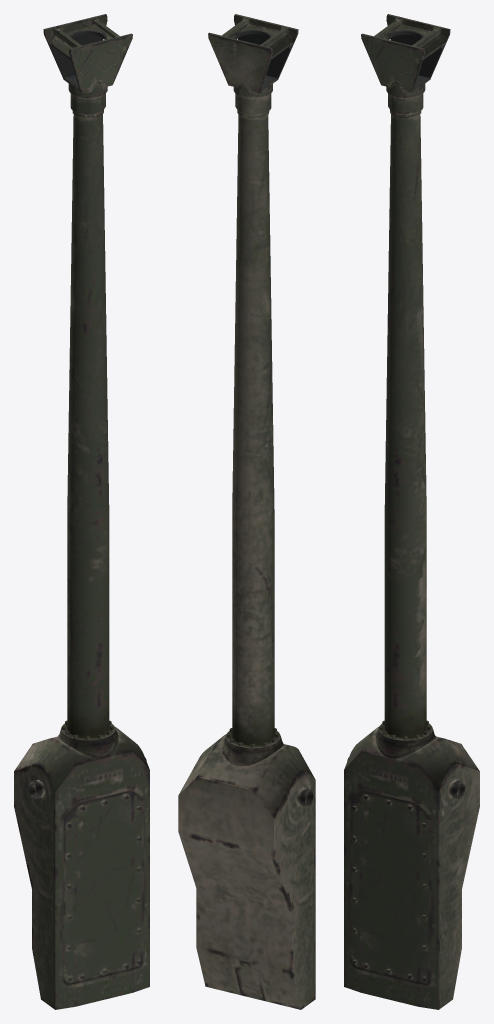
File: Gun_02.glb
3 views of the same model, side by side, from view 1: azimuth 30°, elevation 25°; view 2: azimuth 150°, elevation 25°; view 3: azimuth 330°, elevation 25° (orthographic).
Parts seen in each view (by area): view 1: set_0_group_0; view 2: set_0_group_0; view 3: set_0_group_0.
Part boxes in pixels (bbox=[...]): set_0_group_0: bbox=[14, 14, 149, 1009]; set_0_group_0: bbox=[178, 14, 315, 1009]; set_0_group_0: bbox=[344, 14, 479, 1009].
Bounding box in the file's own units: 0.7134 × 5.88 × 0.4946.
1 material, 1 textured.
